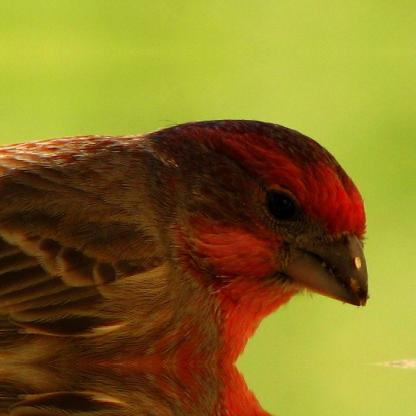Bird: (0, 123, 363, 364), (0, 365, 363, 415)
